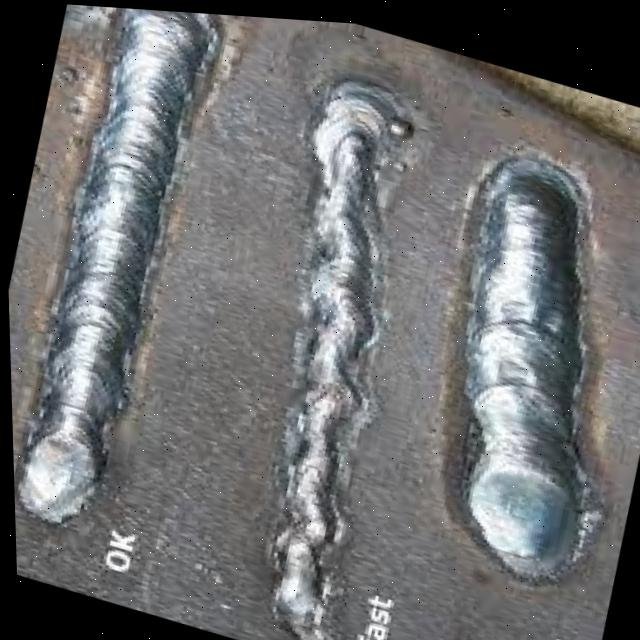Dry: (196, 70, 451, 640)
